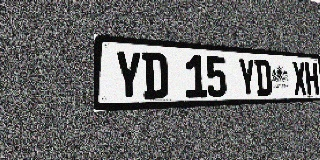1: (185, 54, 207, 98)
5: (206, 56, 227, 97)
D: (142, 52, 168, 99), (254, 59, 272, 96)
H: (305, 62, 319, 94)
X: (292, 61, 307, 95)
Y: (114, 50, 142, 100), (238, 58, 256, 96)
